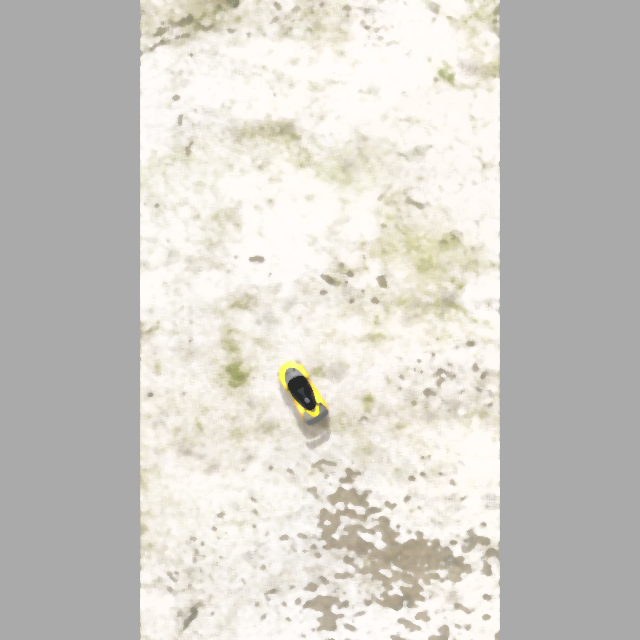car: (270, 355, 332, 430)
